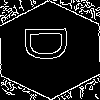D: (25, 25, 78, 62)
